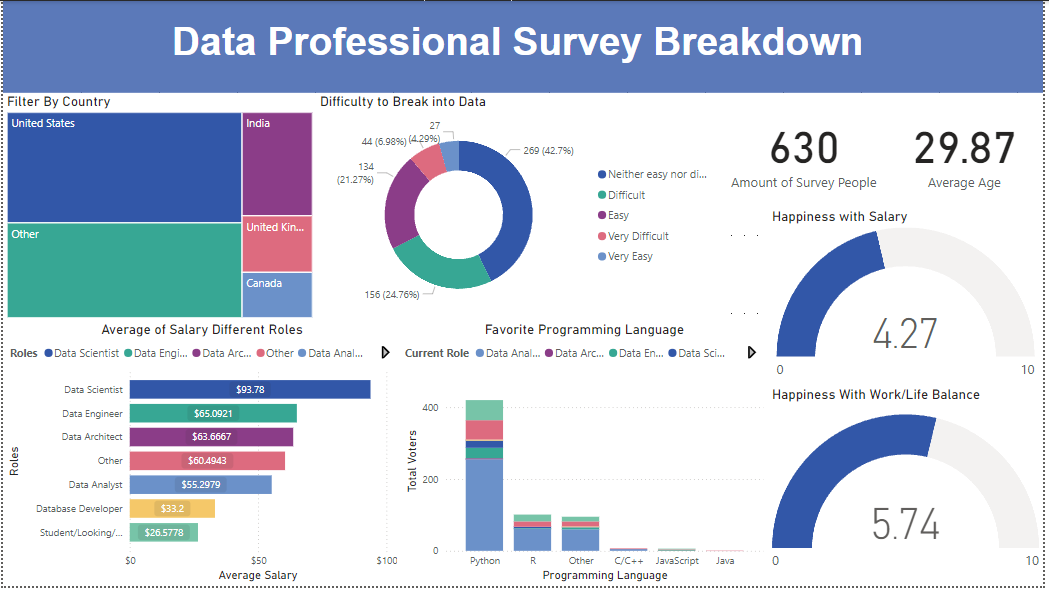

Layout of this report page (visuals, bound fields, positions):
{"tool":"powerbi","page":{"name":"Page 1","canvas":[1280,720],"ordinal":0},"visuals":[{"type":"textbox","box":[0,0,1280,112.9],"z":0},{"type":"card","fields":{"Values":["Count(Data Professional Survey.Unique ID)"]},"box":[883.6,112.9,203.7,141.8],"z":1000},{"type":"card","fields":{"Values":["Avg(Data Professional Survey.Q10 - Current Age)"]},"box":[1087.1,112.9,192.9,141.4],"z":2000},{"type":"barChart","title":"Average of Salary Different Roles","fields":{"Category":["Data Professional Survey.Q1 - Which Title Best Fits your Current Role?.1.1"],"Y":["Avg(Data Professional Survey.Average Salary)"],"Series":["Data Professional Survey.Q1 - Which Title Best Fits your Current Role?.1.1"]},"box":[0,393.6,490,326.2],"z":3000},{"type":"columnChart","title":"Favorite Programming Language","fields":{"Category":["Data Professional Survey.Q5 - Favorite Programming Language.1"],"Y":["CountNonNull(Data Professional Survey.Unique ID)"],"Series":["Data Professional Survey.Q1 - Which Title Best Fits your Current Role?.1.1"]},"box":[490,393.6,451.4,326.2],"z":4000},{"type":"treemap","title":"Filter By Country ","fields":{"Group":["Data Professional Survey.Q11 - Which Country do you live in?.1"],"Values":["CountNonNull(Data Professional Survey.Q11 - Which Country do you live in?.1)"]},"box":[0,112.9,385.7,281.4],"z":5000},{"type":"gauge","title":"Happiness With Work/Life Balance","fields":{"Y":["Avg(Data Professional Survey.Q6 - How Happy are you in your Current Position with the following? (Work/Life Balance))"],"MinValue":["Min(Data Professional Survey.Q6 - How Happy are you in your Current Position with the following? (Work/Life Balance))"],"MaxValue":["Max(Data Professional Survey.Q6 - How Happy are you in your Current Position with the following? (Work/Life Balance))1"]},"box":[941.4,473.5,338.6,246.4],"z":6000},{"type":"gauge","title":"Happiness with Salary","fields":{"Y":["Avg(Data Professional Survey.Q6 - How Happy are you in your Current Position with the following? (Salary))"],"MinValue":["Min(Data Professional Survey.Q6 - How Happy are you in your Current Position with the following? (Salary))"],"MaxValue":["Max(Data Professional Survey.Q6 - How Happy are you in your Current Position with the following? (Salary))"]},"box":[941.4,254.6,338.6,218.8],"z":7000},{"type":"donutChart","title":"Difficulty to Break into Data","fields":{"Category":["Data Professional Survey.Q7 - How difficult was it for you to break into Data?"],"Y":["CountNonNull(Data Professional Survey.Q7 - How difficult was it for you to break into Data?)"]},"box":[385.4,112.9,498.2,280.8],"z":8000}]}

Visuals, with their boxes in screenshot pixels (x1, y1, x2, y2), scaled from the page's 1280x720 canvas onto the 1049x593 screenshot:
textbox: {"left": 0, "top": 0, "right": 1048, "bottom": 93}
card - Count(Data Professional Survey.Unique ID): {"left": 724, "top": 93, "right": 891, "bottom": 210}
card - Avg(Data Professional Survey.Q10 - Current Age): {"left": 891, "top": 93, "right": 1048, "bottom": 209}
"Average of Salary Different Roles" barChart: {"left": 0, "top": 324, "right": 402, "bottom": 592}
"Favorite Programming Language" columnChart: {"left": 402, "top": 324, "right": 772, "bottom": 592}
"Filter By Country " treemap: {"left": 0, "top": 93, "right": 316, "bottom": 325}
"Happiness With Work/Life Balance" gauge: {"left": 772, "top": 390, "right": 1048, "bottom": 592}
"Happiness with Salary" gauge: {"left": 772, "top": 210, "right": 1048, "bottom": 390}
"Difficulty to Break into Data" donutChart: {"left": 316, "top": 93, "right": 724, "bottom": 324}
